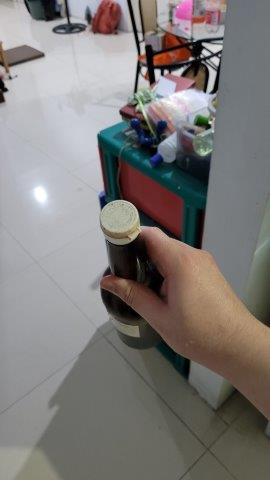botolkaca: (95, 197, 171, 355)
